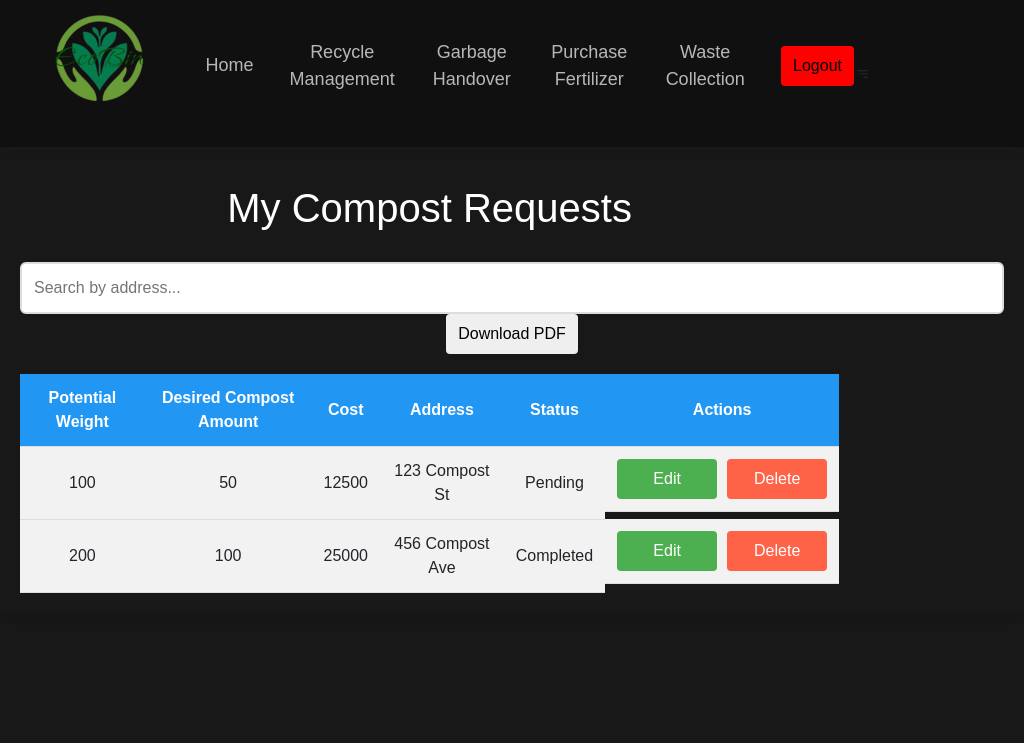
Scenario: MyCompostRequests Component › deletes a compost request
This screenshot has width=1024, height=743.
Note: Click the delete button for the first request
Click the button "Delete" in the row of "12500" at [777, 479], box [727,459,827,499]
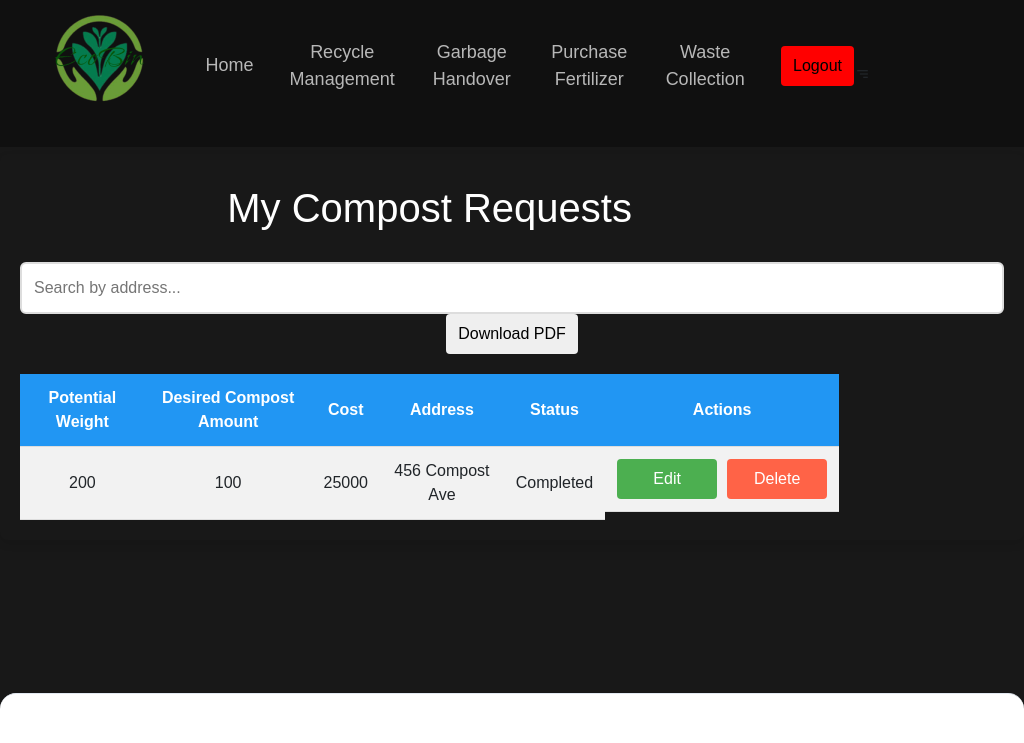
expect the text "123 Compost St" is gone: met
